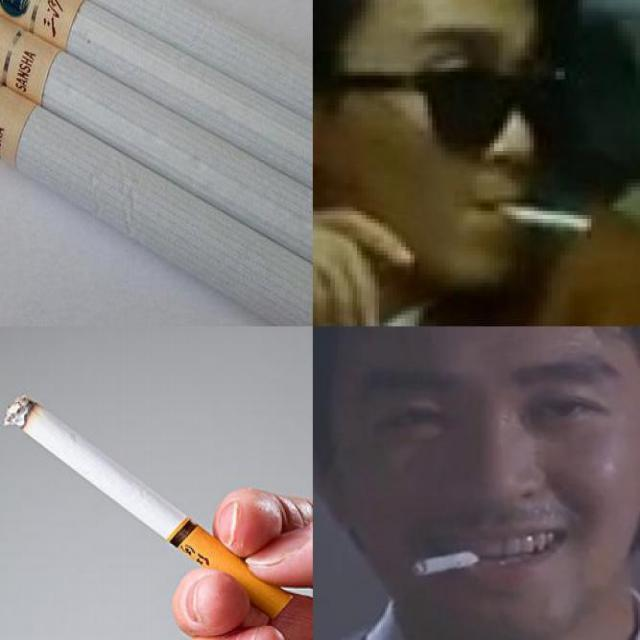cigarette: (2, 392, 294, 622), (481, 197, 595, 234), (410, 546, 490, 577)
